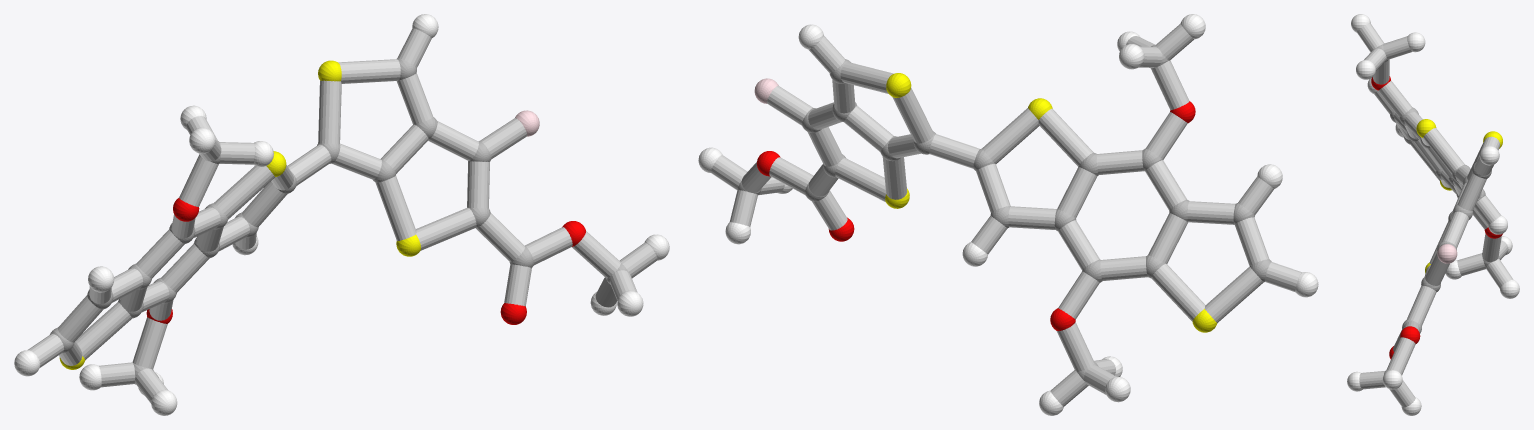
The model's file is Dimethoxy_Benzodithiophene_Phi_15_Theta_120_Methylcarbonyl_3_Fluoro_Thienothiophene.glb.
3 renders of one model, left to right at view 1: azimuth 30°, elevation 25°; view 2: azimuth 150°, elevation 25°; view 3: azimuth 270°, elevation 25°, orthographic. The views are drawn at different scales.
Parts seen in each view (by area): view 1: grp15205, grp8689, grp1, grp13395, grp7241; view 2: grp15205, grp8689, grp1, grp7241, grp13395; view 3: grp15205, grp8689, grp1, grp13395, grp7241, grp14843.
Boxes of the visible parts, <box> form: grp15205: <box>28,28,657,403</box>; grp8689: <box>14,14,669,415</box>; grp1: <box>50,58,628,384</box>; grp13395: <box>146,198,585,324</box>; grp7241: <box>59,60,420,369</box>; grp15205: <box>711,23,1301,406</box>; grp8689: <box>698,14,1318,415</box>; grp1: <box>737,45,1271,380</box>; grp7241: <box>885,73,1217,332</box>; grp13395: <box>756,101,1195,331</box>; grp15205: <box>1357,23,1513,407</box>; grp8689: <box>1347,14,1519,415</box>; grp1: <box>1376,44,1499,374</box>; grp13395: <box>1371,76,1502,359</box>; grp7241: <box>1416,119,1502,273</box>; grp14843: <box>1437,244,1457,263</box>.
Bounding box in the file's own units: 16.91 × 8.81 × 5.19.
